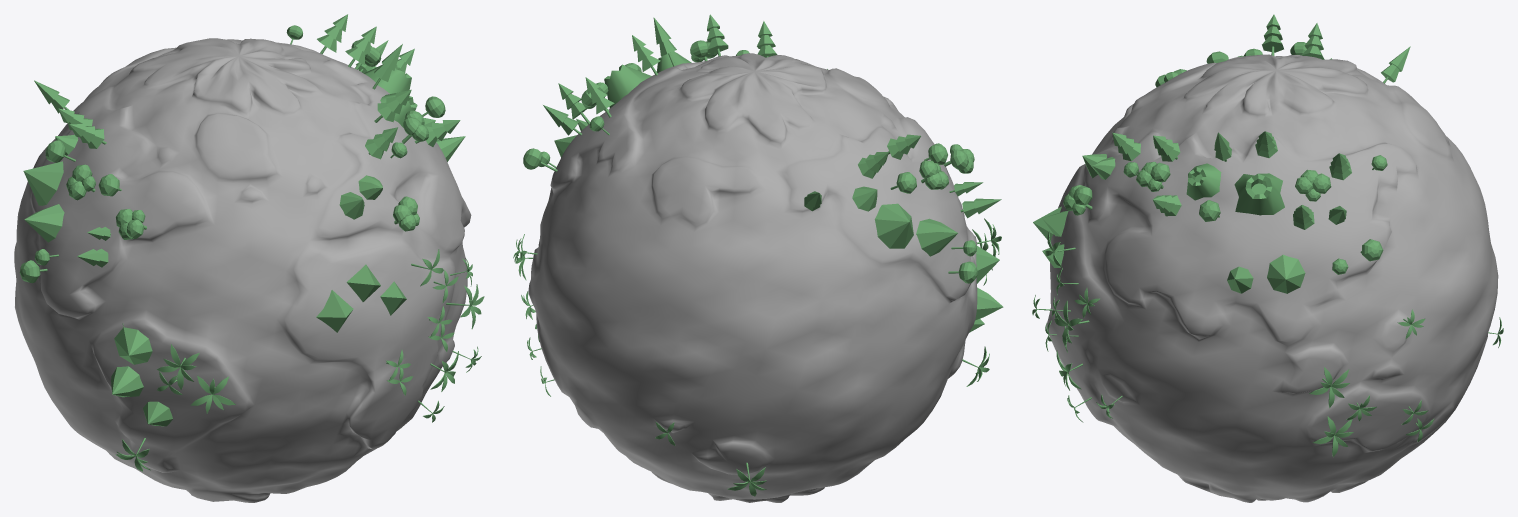
The model's file is smooth_earth.fbx.
The picture shows the model from 3 angles, left to right: view 1: azimuth 30°, elevation 25°; view 2: azimuth 150°, elevation 25°; view 3: azimuth 270°, elevation 25°; orthographic projection. The views are drawn at different scales.
Visible parts, largest first — view 1: pSphere2; view 2: pSphere2; view 3: pSphere2.
Boxes of the visible parts, <box> form: pSphere2: <box>14,14,484,502</box>; pSphere2: <box>513,14,1003,502</box>; pSphere2: <box>1032,14,1503,502</box>.
Bounding box in the file's own units: 788 × 727 × 746.
